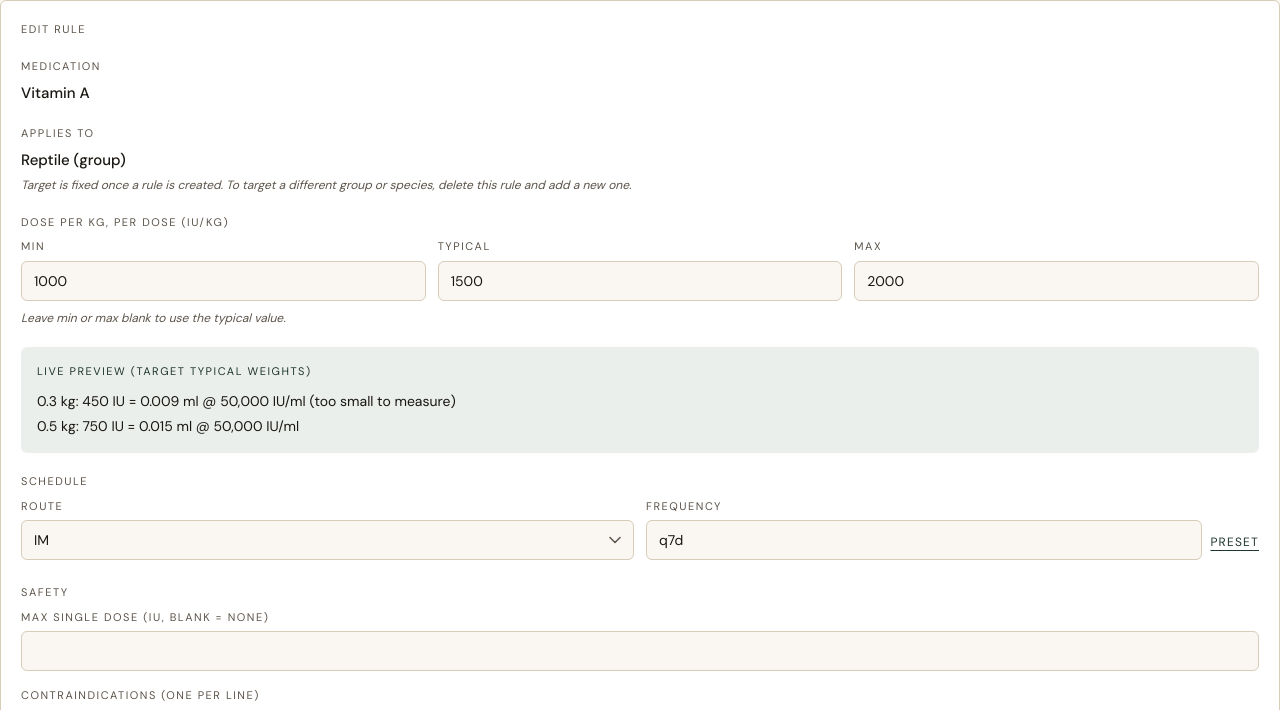
Test case: RuleEditor - fields (moved from RulesTab) › rejects a negative Min
The width and height of the screenshot is (1280, 710).
Replace the text in the field labelled "Min" with "-5" at (223, 280), box [21,260,426,300]
(page scrolled)
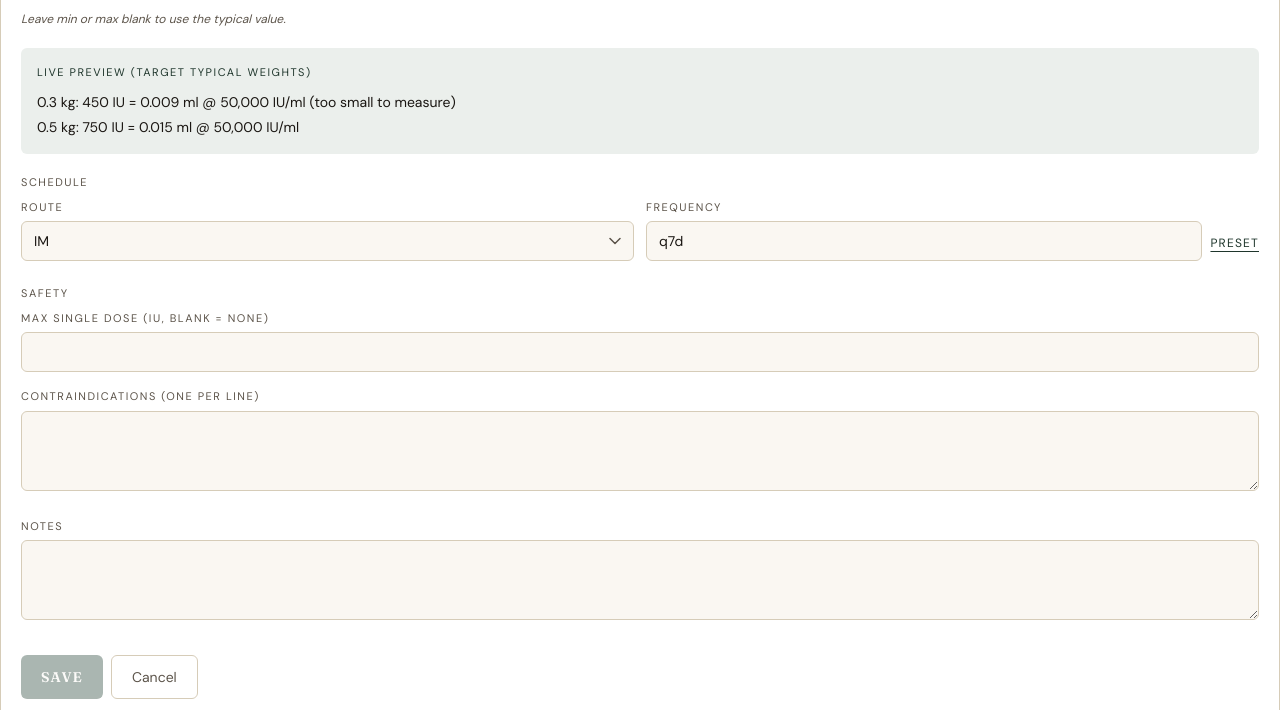
Now the button "Save" is disabled, box [21,655,103,699]
